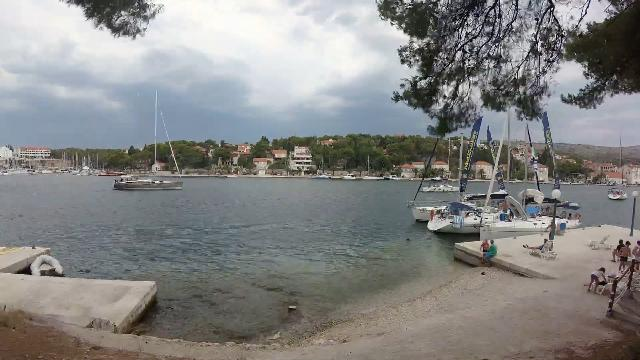Sailboat: (416, 171, 468, 193)
ferry: (106, 170, 188, 196)
